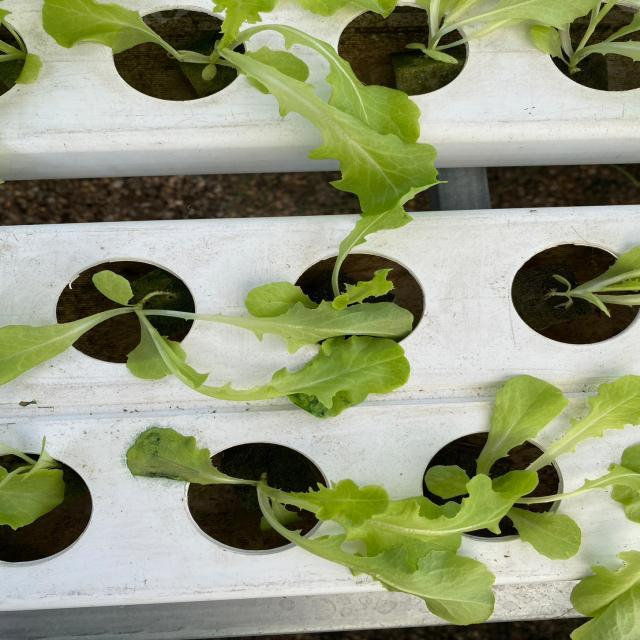Lettuce-Not-Ready-to-Harvest: (44, 0, 438, 262), (128, 428, 536, 624), (0, 270, 412, 414), (408, 0, 599, 62), (529, 375, 640, 470), (476, 375, 568, 474), (530, 0, 640, 74), (546, 246, 640, 316), (0, 439, 64, 529), (509, 508, 581, 559), (0, 9, 42, 83)
